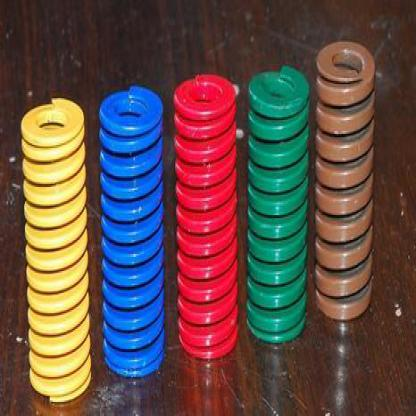FOD: (19, 95, 93, 405), (97, 84, 168, 382), (173, 69, 241, 366), (313, 34, 378, 326), (246, 60, 310, 348)
